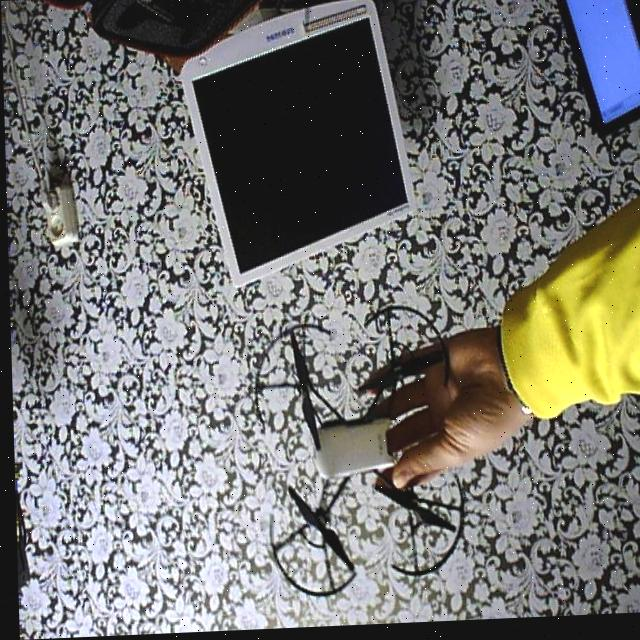drone: (234, 297, 468, 611)
